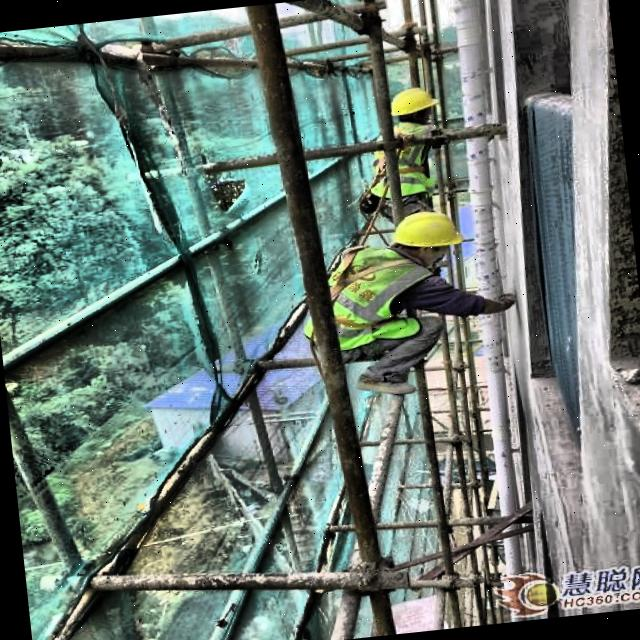helmet: (378, 203, 466, 274), (383, 80, 442, 139)
